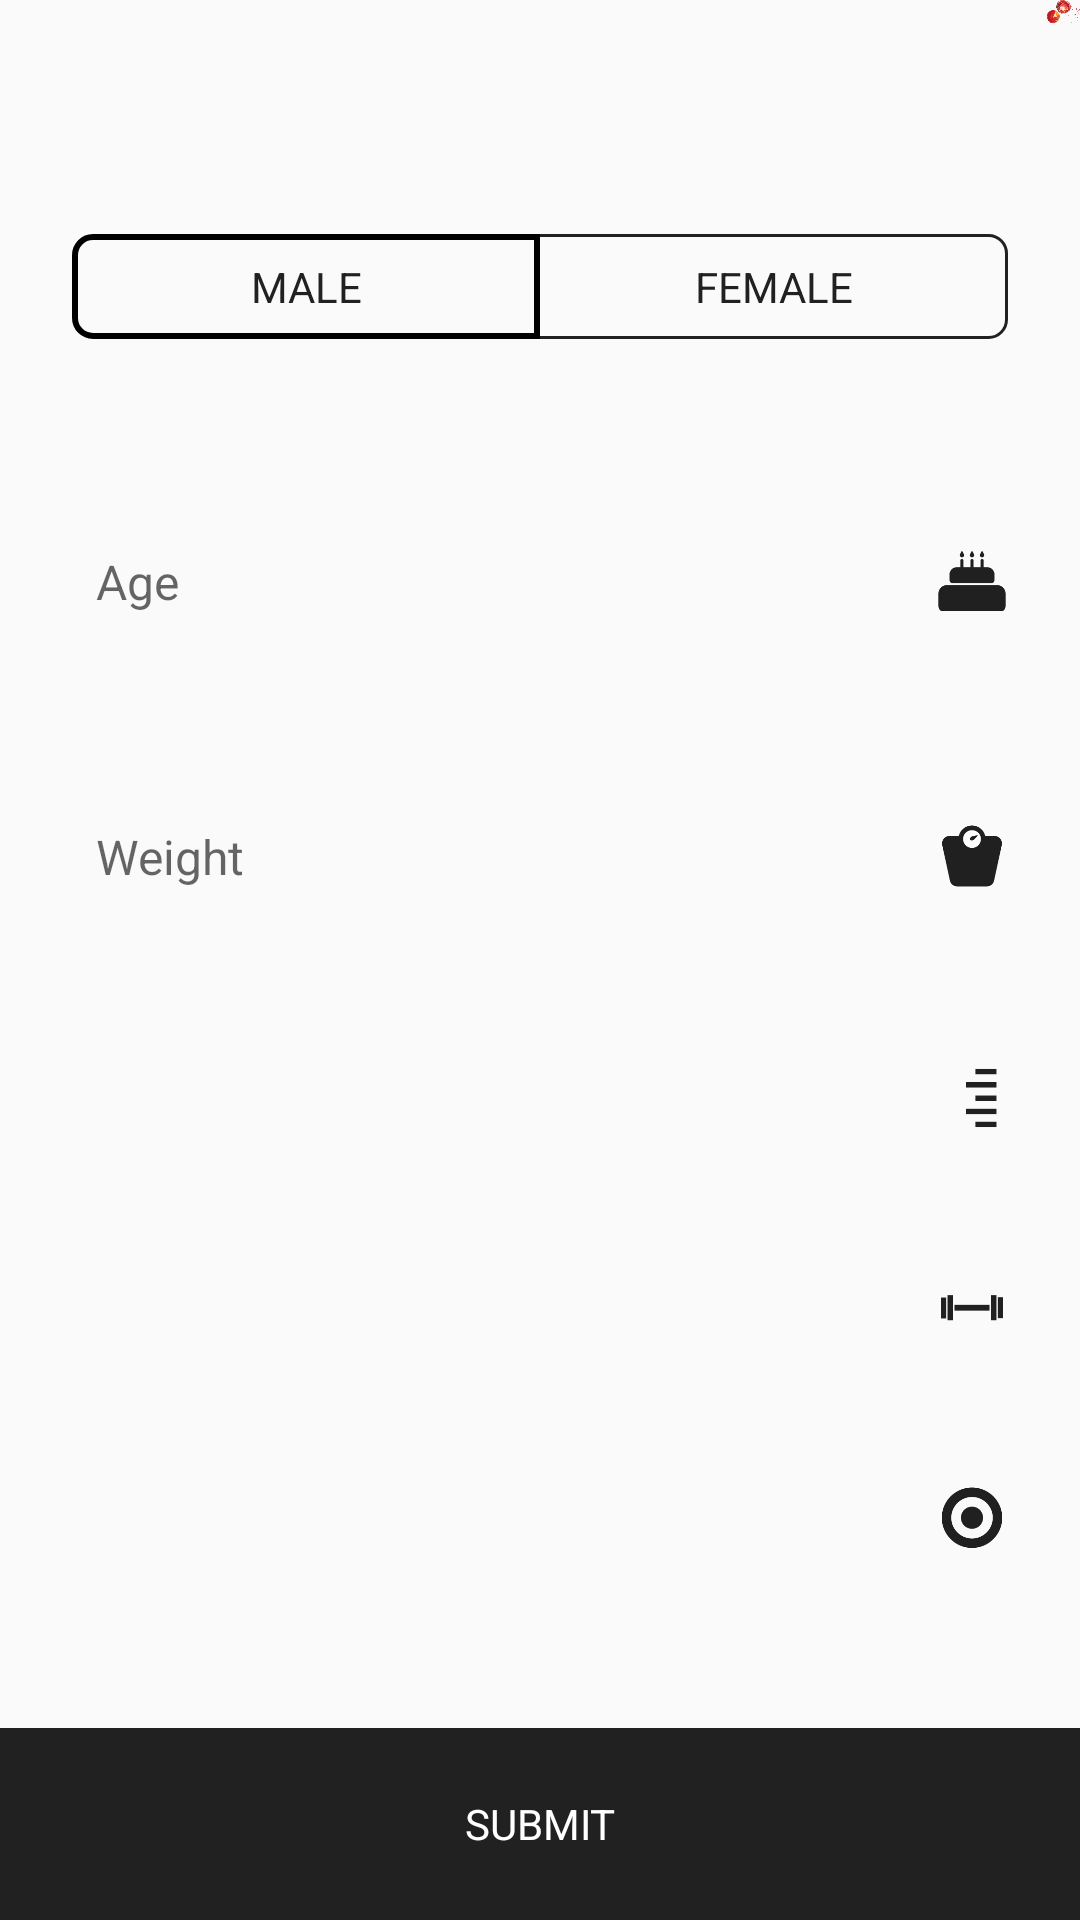

Icons on this 1080x1920 Android screen, each with the point to tap as [x,y]:
height: [981,1098]
weekly activity: [972,1308]
weight goal: [972,1517]
